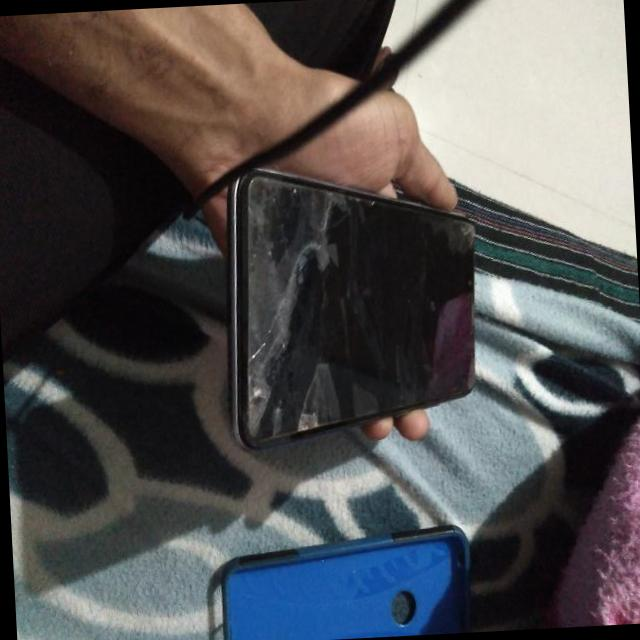screen crack: (232, 241, 348, 458), (446, 198, 488, 259)
